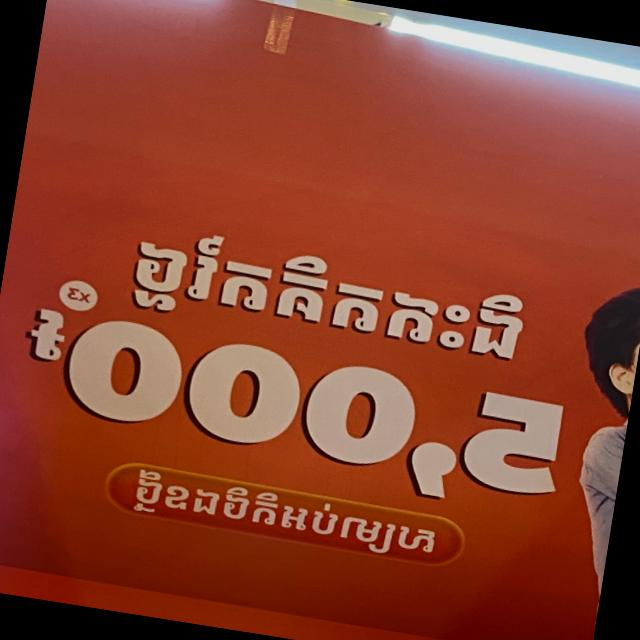702: (66, 285, 81, 304)
768: (46, 310, 591, 535)
Yolov11kh: (116, 219, 538, 373), (126, 464, 442, 564), (22, 303, 75, 368)
